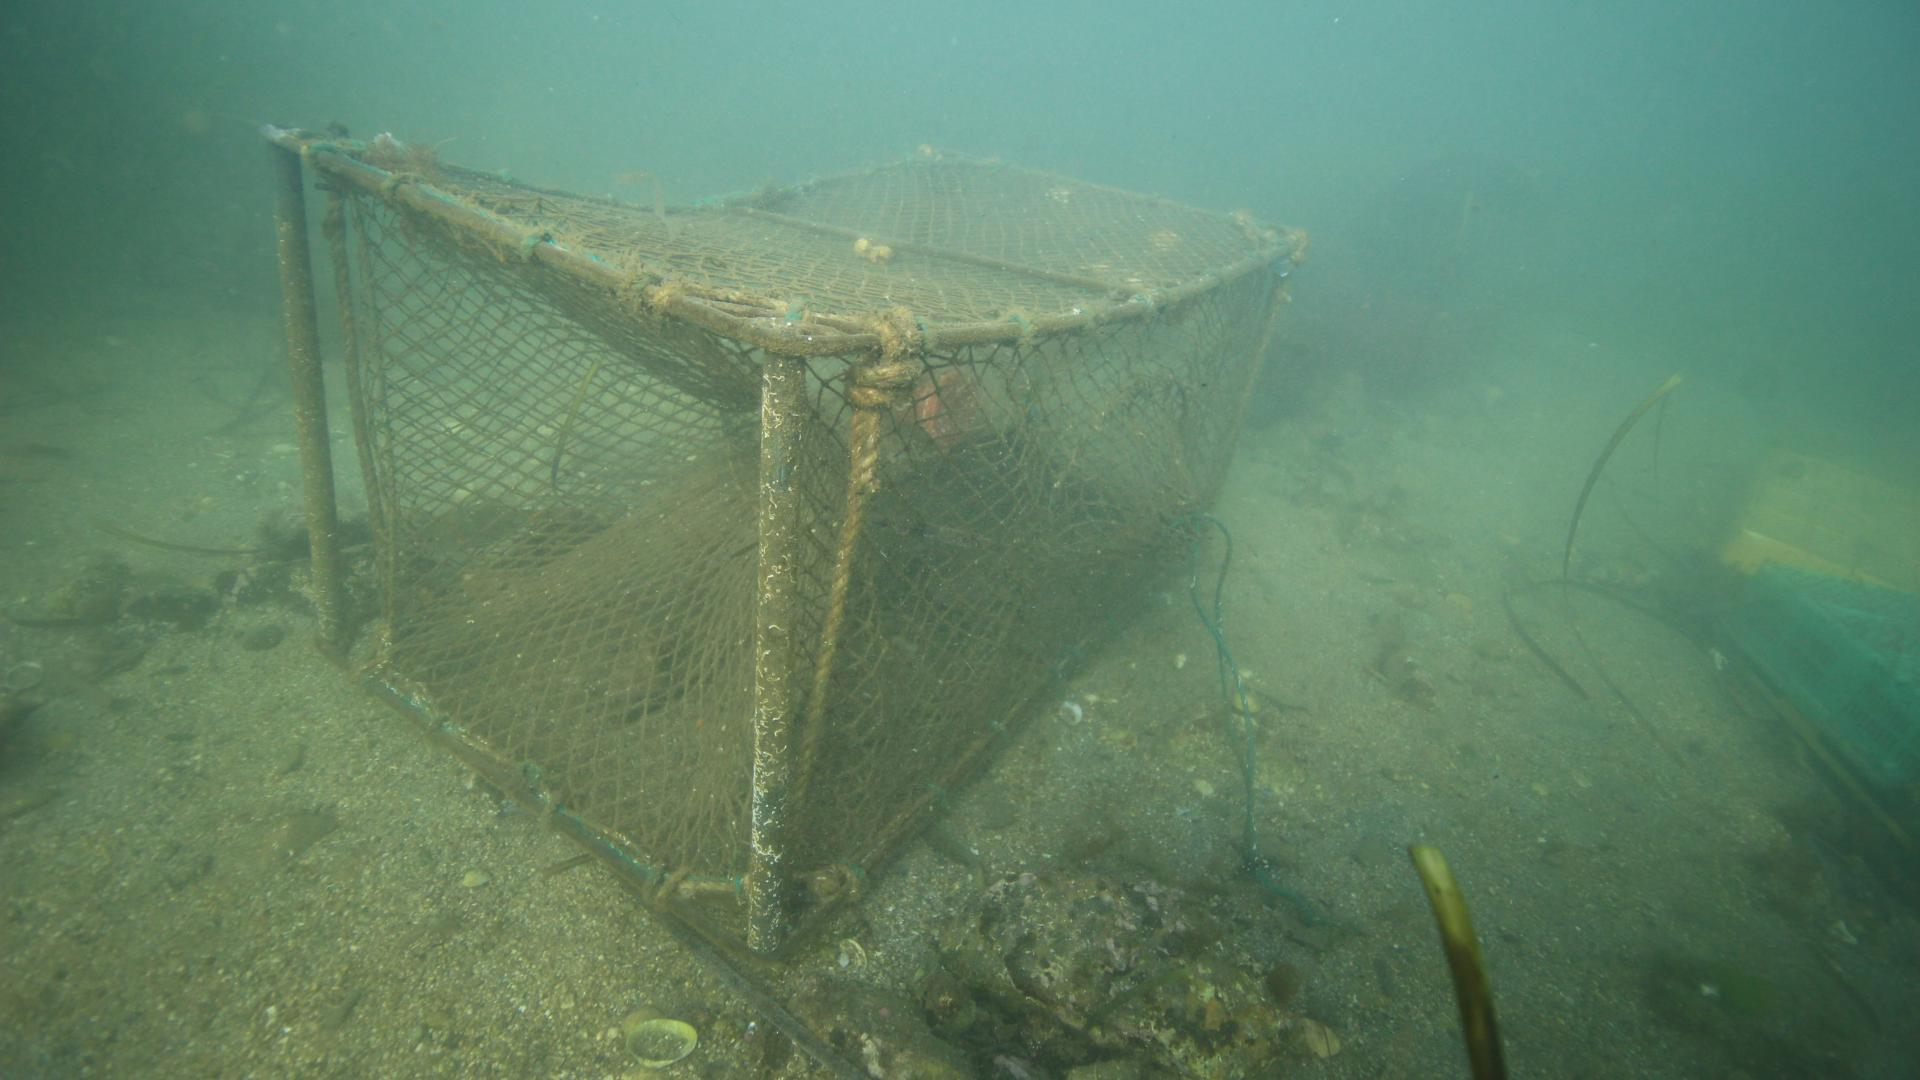rectangular fish trap: (258, 119, 1317, 977)
